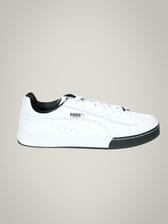shoes: (12, 88, 162, 150)
